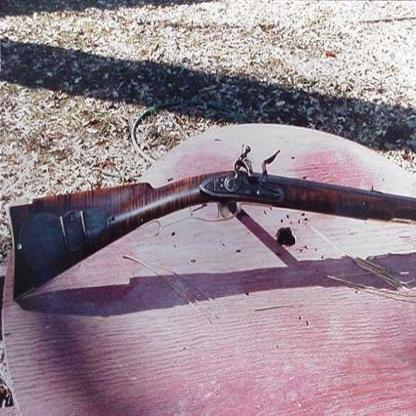rifle: (0, 135, 415, 319)
